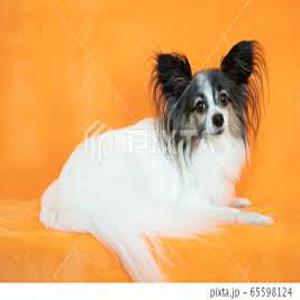yell: (40, 40, 273, 281)
